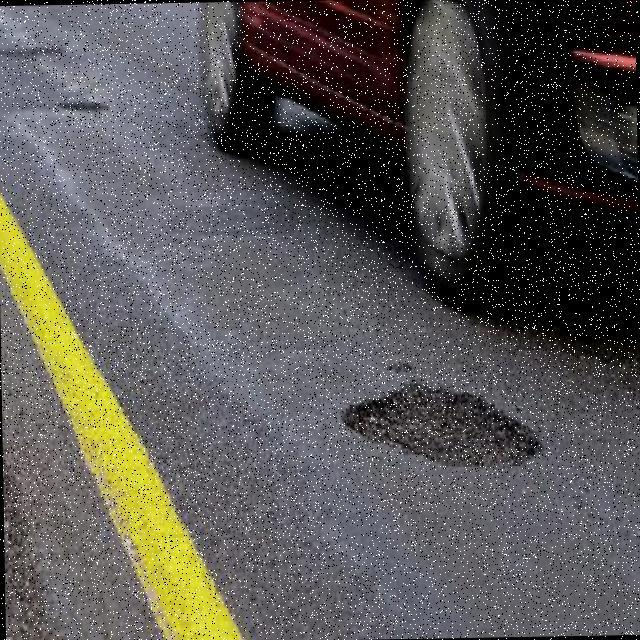Pothole: (340, 385, 542, 470)
